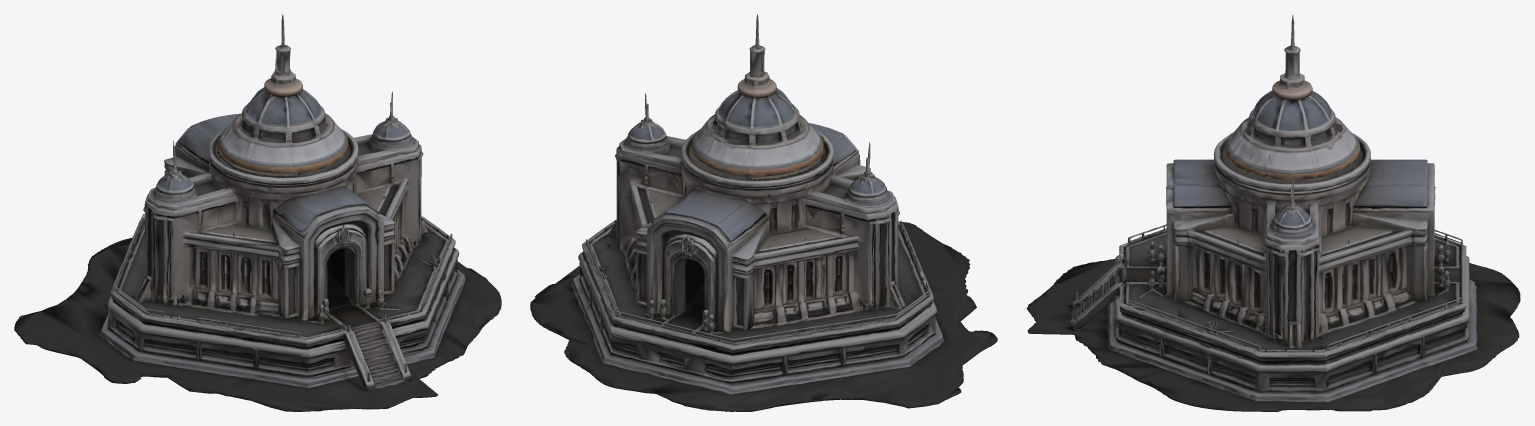
Rendered from Decorativo1.glb.
3 views of the same model, side by side, from view 1: azimuth 30°, elevation 25°; view 2: azimuth 150°, elevation 25°; view 3: azimuth 270°, elevation 25° (orthographic). The views are drawn at different scales.
Parts seen in each view (by area): view 1: tripo_node_41201db1-74b3-4292-bf11-c2b9de78c17d; view 2: tripo_node_41201db1-74b3-4292-bf11-c2b9de78c17d; view 3: tripo_node_41201db1-74b3-4292-bf11-c2b9de78c17d.
Part boxes in pixels (left/top/right/bottom): tripo_node_41201db1-74b3-4292-bf11-c2b9de78c17d: left=14, top=14, right=501, bottom=411; tripo_node_41201db1-74b3-4292-bf11-c2b9de78c17d: left=530, top=14, right=997, bottom=411; tripo_node_41201db1-74b3-4292-bf11-c2b9de78c17d: left=1026, top=14, right=1520, bottom=411.
Bounding box in the file's own units: 0.9773 × 0.6717 × 0.9815.
1 material, 1 textured.
